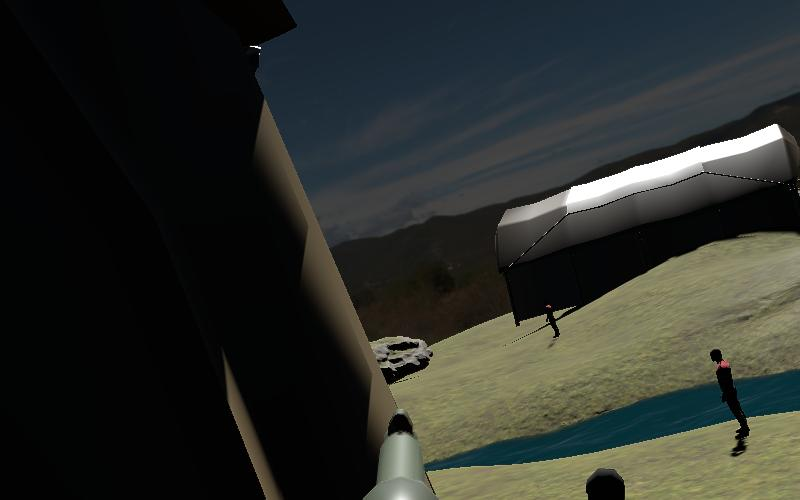Human: (706, 344, 754, 457), (541, 297, 564, 344)
